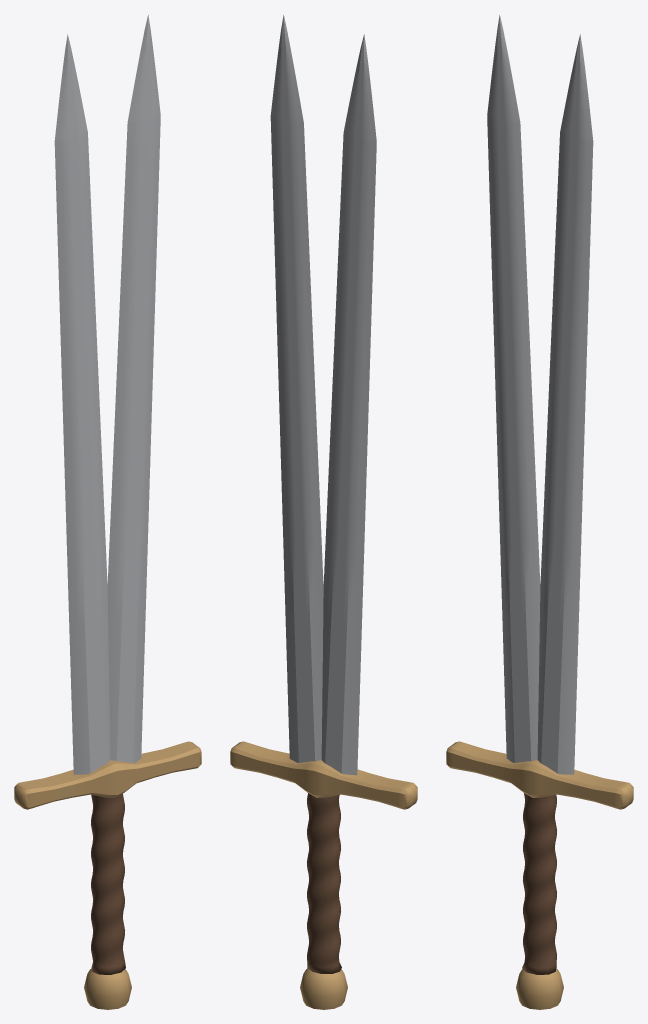
Rendered from split-blade-sword.glb.
The picture shows the model from 3 angles, left to right: view 1: azimuth 30°, elevation 25°; view 2: azimuth 150°, elevation 25°; view 3: azimuth 330°, elevation 25°; orthographic projection.
Visible parts, largest first — view 1: split-blade-sword; view 2: split-blade-sword; view 3: split-blade-sword.
Boxes of the visible parts, x1,y1,x2,y2 form: split-blade-sword: (14,15,201,1009); split-blade-sword: (230,15,417,1009); split-blade-sword: (446,15,633,1009).
Bounding box in the file's own units: 0.44 × 2.26 × 0.1.
